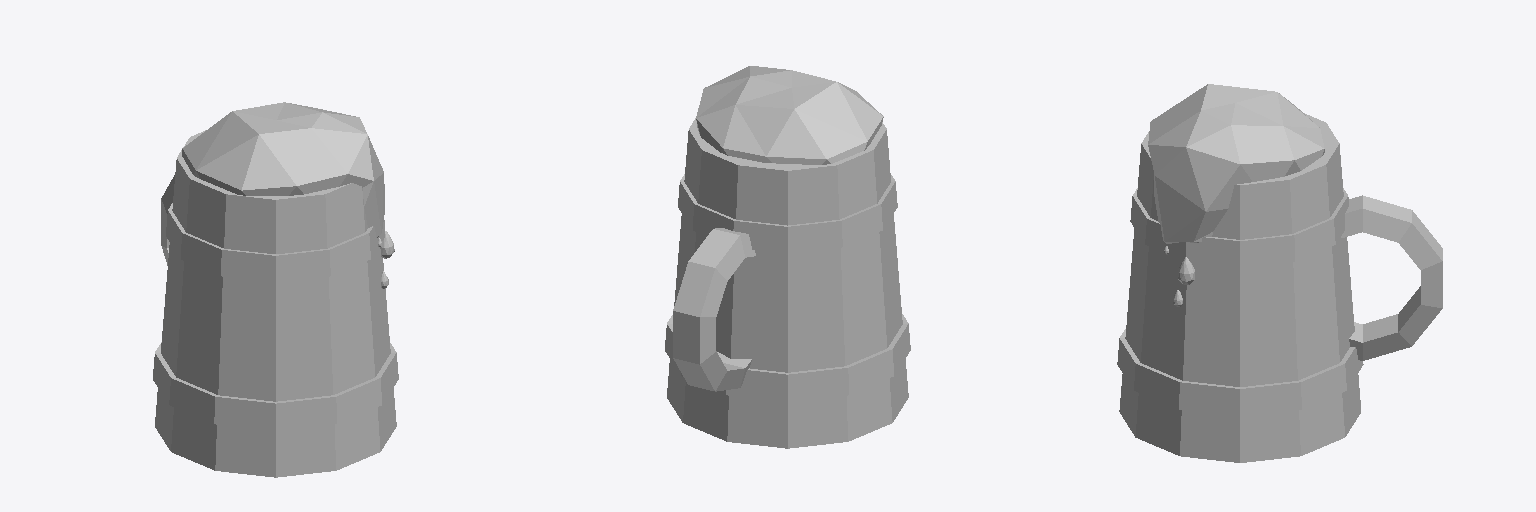
File: hidromiel.obj
3 renders of one model, left to right at view 1: azimuth 30°, elevation 25°; view 2: azimuth 150°, elevation 25°; view 3: azimuth 270°, elevation 25°, orthographic.
Parts seen in each view (by area): view 1: Icosphere.002_Icosphere.003; view 2: Icosphere.002_Icosphere.003; view 3: Icosphere.002_Icosphere.003.
Part boxes in pixels (x1,y1,x2,y2): Icosphere.002_Icosphere.003: (153,102,398,477); Icosphere.002_Icosphere.003: (665,66,910,448); Icosphere.002_Icosphere.003: (1117,84,1442,462).
Bounding box in the file's own units: 0.3051 × 0.4268 × 0.4032.